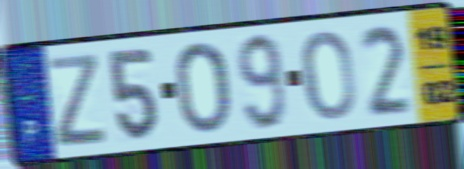2: (357, 22, 415, 120)
5: (105, 46, 161, 143)
9: (234, 30, 290, 134)
O: (173, 39, 233, 137), (299, 28, 357, 124)
Z: (47, 51, 108, 150)
